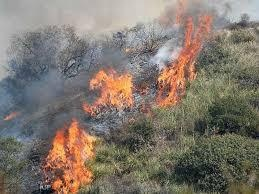fire: (155, 12, 216, 106), (40, 114, 98, 191), (81, 65, 137, 112), (0, 107, 19, 120)
